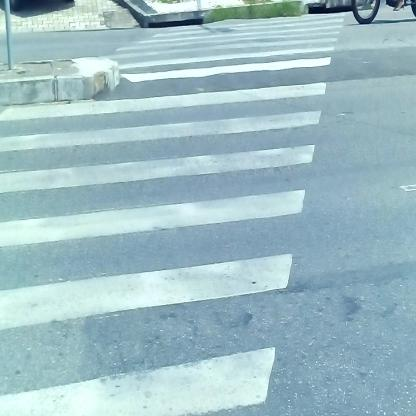crosswalk: (4, 8, 353, 416)
